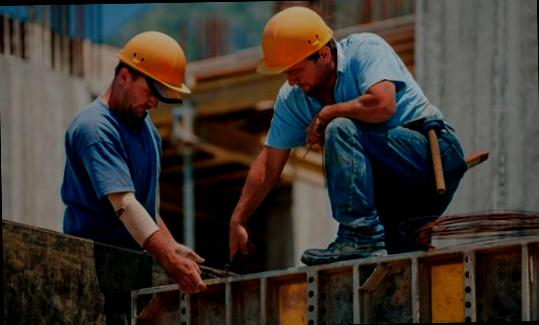helmet: (250, 4, 334, 72), (118, 28, 194, 97)
person: (224, 1, 459, 260), (61, 20, 204, 271)
